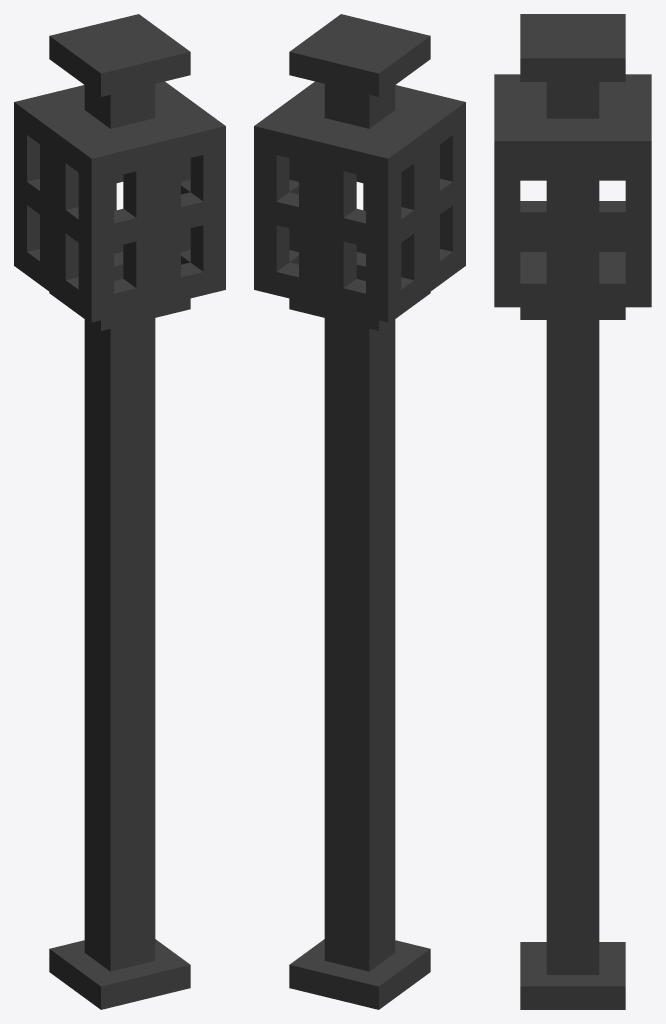
Rendered from lamp-0.obj.
3 views of the same model, side by side, from view 1: azimuth 30°, elevation 25°; view 2: azimuth 150°, elevation 25°; view 3: azimuth 270°, elevation 25° (orthographic).
Visible parts, largest first — view 1: lamp-0; view 2: lamp-0; view 3: lamp-0.
Boxes of the visible parts, bbox=[...] form: lamp-0: bbox=[14, 14, 225, 1009]; lamp-0: bbox=[254, 14, 465, 1009]; lamp-0: bbox=[494, 14, 651, 1009].
Bounding box in the file's own units: 6 × 40 × 6.
1 material, 1 textured.
